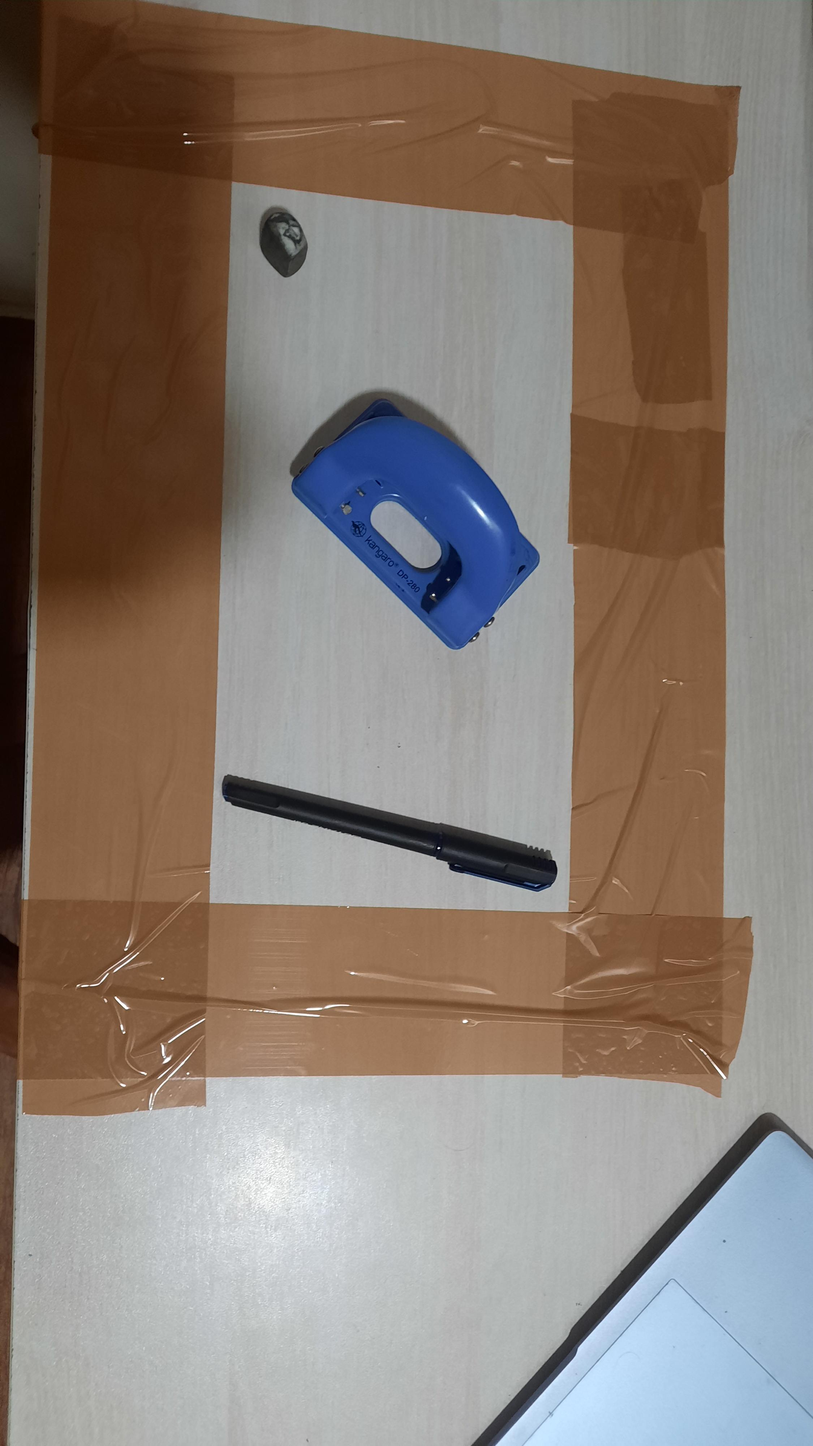Eraser: (259, 208, 309, 278)
Pen: (222, 773, 558, 893)
Punch: (289, 393, 541, 650)
